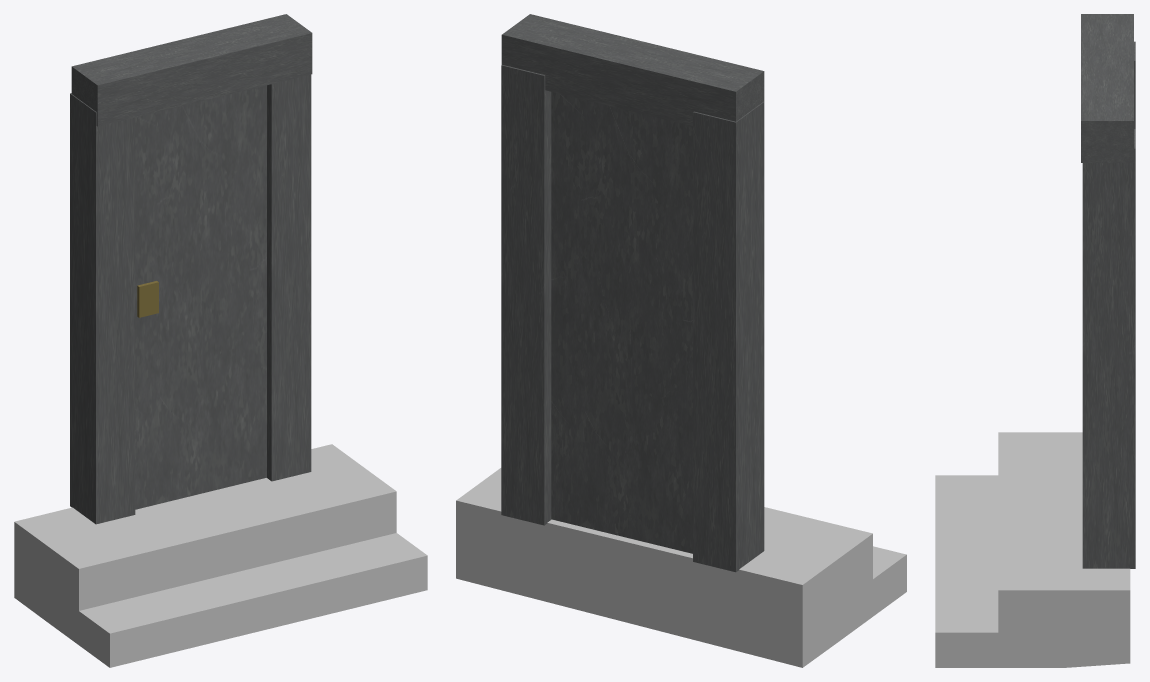
File: door0.obj
3 views of the same model, side by side, from view 1: azimuth 30°, elevation 25°; view 2: azimuth 150°, elevation 25°; view 3: azimuth 270°, elevation 25° (orthographic). The views are drawn at different scales.
Visible parts, largest first — view 1: sign2_sign2_Nuovo.1, sign2_sign2_None, sign2_sign2_Nuovo; view 2: sign2_sign2_Nuovo.1, sign2_sign2_None; view 3: sign2_sign2_None, sign2_sign2_Nuovo.1.
Boxes of the visible parts, x1,y1,x2,y2 form: sign2_sign2_Nuovo.1: [70, 14, 312, 524]; sign2_sign2_None: [14, 444, 427, 667]; sign2_sign2_Nuovo: [137, 281, 158, 317]; sign2_sign2_Nuovo.1: [501, 14, 764, 572]; sign2_sign2_None: [456, 468, 906, 667]; sign2_sign2_None: [935, 432, 1130, 667]; sign2_sign2_Nuovo.1: [1081, 14, 1135, 568].
Bounding box in the file's own units: 1.61 × 2.5 × 0.8636.
Materials: 3 (1 with a texture image).
